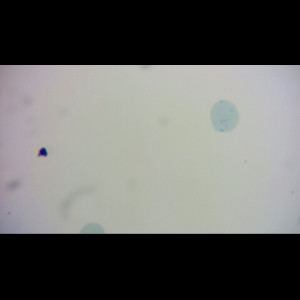punctate reticulocyte: (209, 98, 240, 134)
